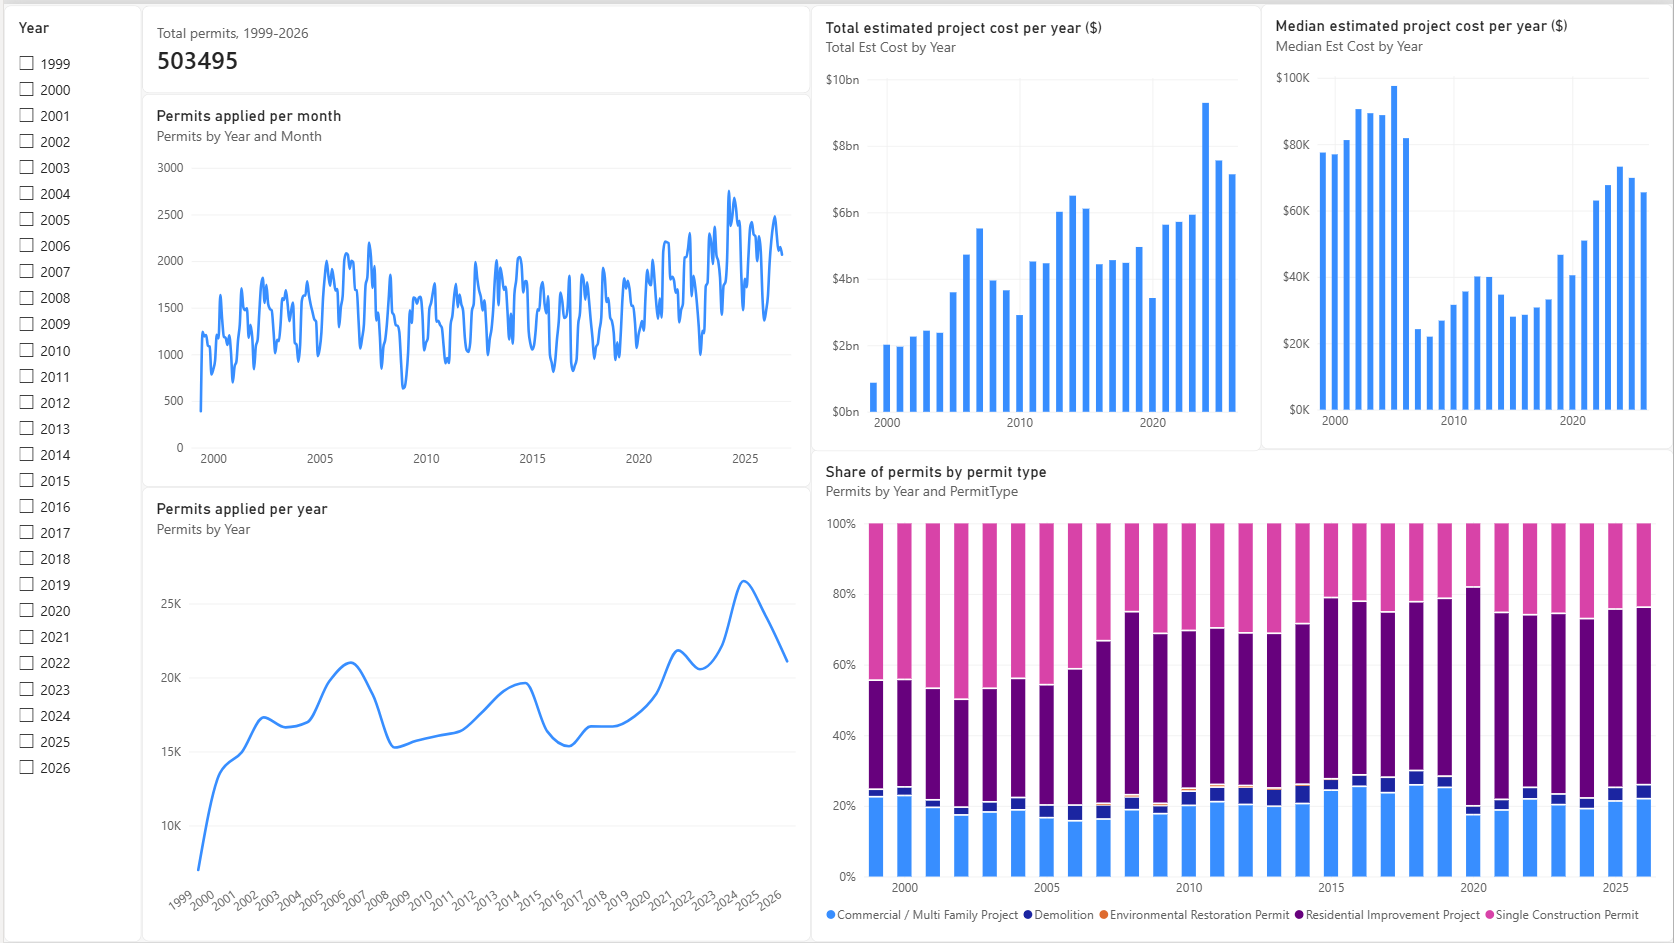

The page's visual inventory and layout, read from the dashboard file:
{"tool":"powerbi","page":{"name":"Trends","canvas":[1920,1080],"ordinal":1},"visuals":[{"type":"cardVisual","title":"Total permits, 1999-2026","fields":{"Data":["Count(building_permits_clean.PermitNum)"]},"box":[0,1.5,769.6,101.8],"z":0},{"type":"lineChart","title":"Permits applied per year","fields":{"Category":["Calendar.Year"],"Y":["Permits.Permits"]},"box":[0,556.7,769.6,522.9],"z":1000},{"type":"hundredPercentStackedColumnChart","title":"Share of permits by permit type","fields":{"Category":["Calendar.Year"],"Series":["Permits.PermitType"],"Y":["Permits.Permits"]},"box":[769.4,514.5,992.5,566.6],"z":2000},{"type":"lineChart","title":"Permits applied per month","fields":{"Category":["Calendar.Date.Variation.Date Hierarchy.Year","Calendar.Date.Variation.Date Hierarchy.Month"],"Y":["Permits.Permits"]},"box":[0,104.1,769.6,452.1],"z":3000},{"type":"clusteredColumnChart","title":"Total estimated project cost per year ($)","fields":{"Category":["Calendar.Year"],"Y":["Permits.Total Est Cost"]},"box":[769.4,1.5,518,512.7],"z":4000},{"type":"clusteredColumnChart","title":"Median estimated project cost per year ($)","fields":{"Category":["Calendar.Year"],"Y":["Permits.Median Est Cost"]},"box":[1288.4,3,474,512],"z":5000},{"type":"listSlicer","fields":{"Values":["Calendar.Year"]},"box":[1763.6,0,156.4,1079.4],"z":6000}]}

Visuals, with their boxes in screenshot pixels (x1, y1, x2, y2), scaled from the page's 1920x1080 canvas onto the 1677x943 screenshot:
"Total permits, 1999-2026" cardVisual: region(0, 1, 672, 90)
"Permits applied per year" lineChart: region(0, 486, 672, 942)
"Share of permits by permit type" hundredPercentStackedColumnChart: region(672, 449, 1539, 942)
"Permits applied per month" lineChart: region(0, 91, 672, 486)
"Total estimated project cost per year ($)" clusteredColumnChart: region(672, 1, 1124, 449)
"Median estimated project cost per year ($)" clusteredColumnChart: region(1125, 3, 1539, 450)
listSlicer - Calendar.Year: region(1540, 0, 1676, 942)
